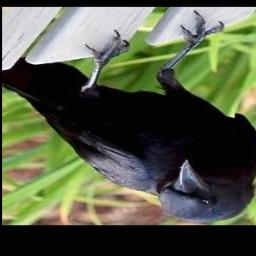Crow: (3, 10, 256, 222)
